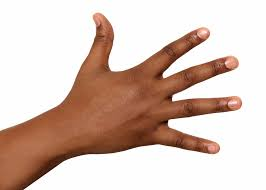hand: (61, 5, 246, 165)
